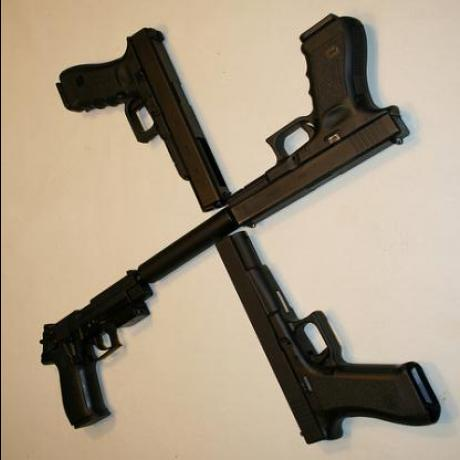weapon: (206, 226, 440, 448), (223, 9, 431, 230), (31, 228, 226, 434), (42, 24, 226, 209)
